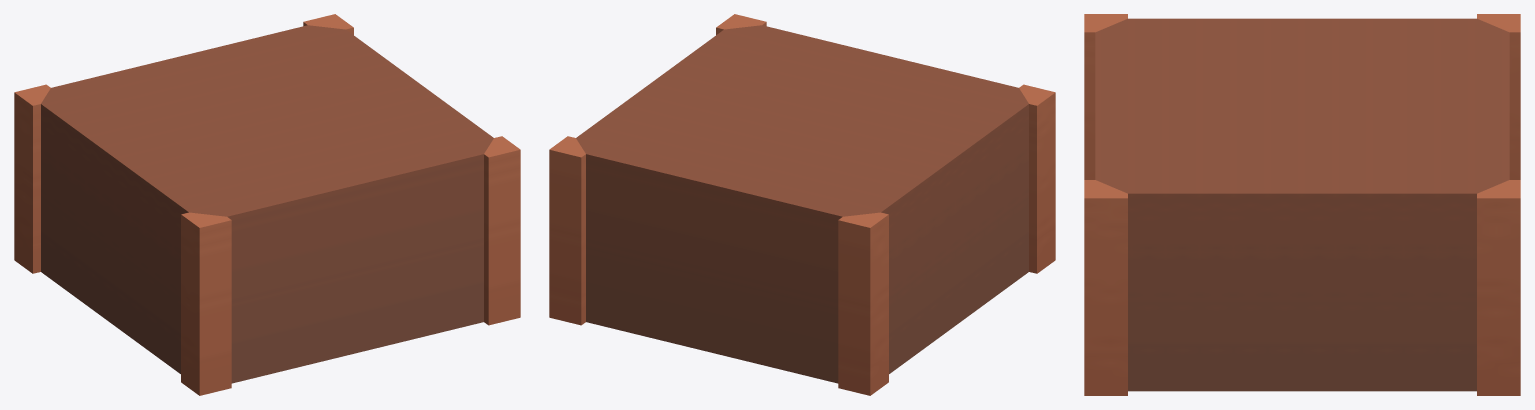
File: wallWoodBlockHalf.fbx
3 renders of one model, left to right at view 1: azimuth 30°, elevation 25°; view 2: azimuth 150°, elevation 25°; view 3: azimuth 270°, elevation 25°, orthographic. The views are drawn at different scales.
Parts seen in each view (by area): view 1: wallWoodBlockHalf; view 2: wallWoodBlockHalf; view 3: wallWoodBlockHalf.
Part boxes in pixels (x1,y1,x2,y2): wallWoodBlockHalf: (14, 14, 520, 395); wallWoodBlockHalf: (549, 14, 1055, 395); wallWoodBlockHalf: (1084, 14, 1520, 395).
Bounding box in the file's own units: 1 × 1 × 0.5.
